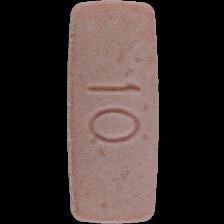60429-448: (0, 0, 224, 224)
